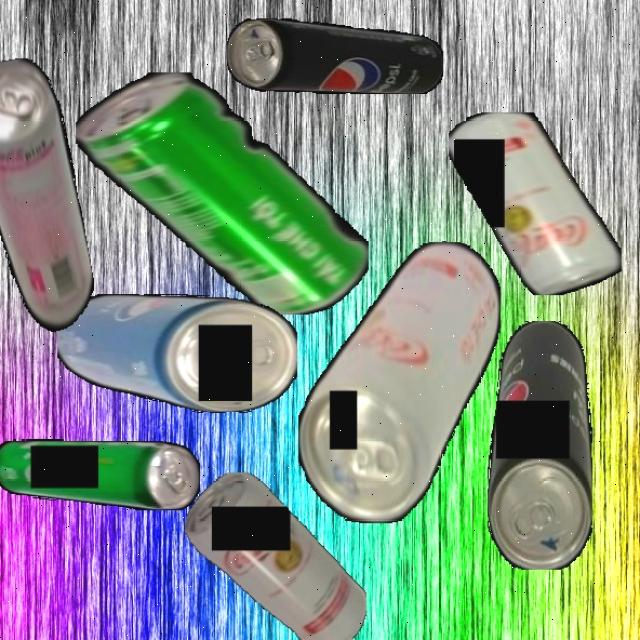debris: (74, 73, 368, 314), (298, 240, 500, 523), (448, 111, 622, 295), (184, 472, 366, 640), (0, 53, 102, 345), (56, 294, 298, 413), (487, 320, 592, 570), (227, 17, 443, 94), (0, 437, 200, 510)
